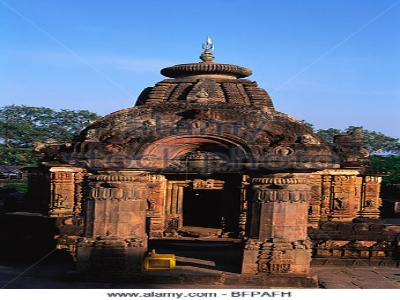amalaka: (148, 56, 266, 81)
torana: (62, 105, 334, 276)
